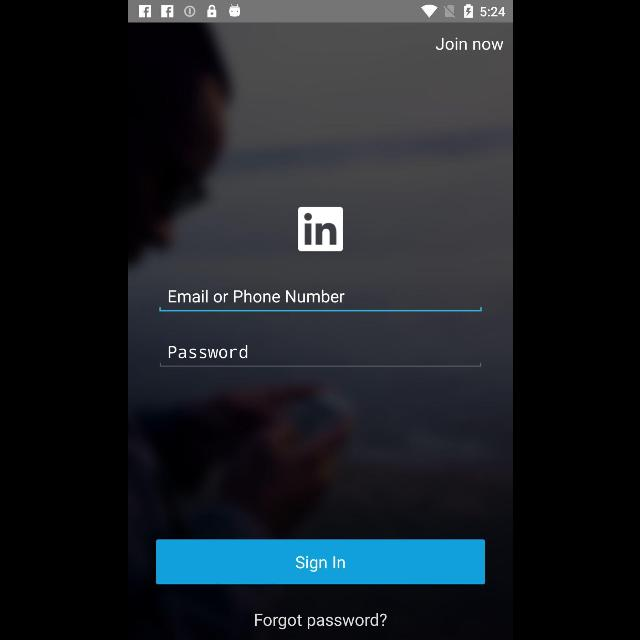backgroundimage: (128, 24, 512, 640)
image: (298, 206, 342, 252)
input: (158, 290, 482, 312), (159, 345, 481, 367)
text: (168, 289, 344, 303), (254, 612, 386, 630), (168, 345, 246, 359), (435, 38, 503, 51)
textbutton: (156, 540, 484, 584)
uppertaskbar: (128, 1, 512, 23)
